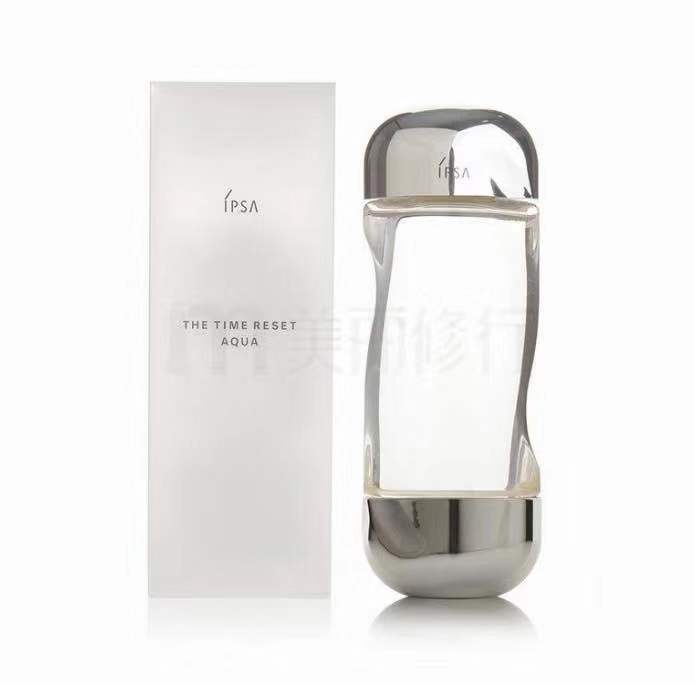cosmetic: (365, 109, 548, 602)
